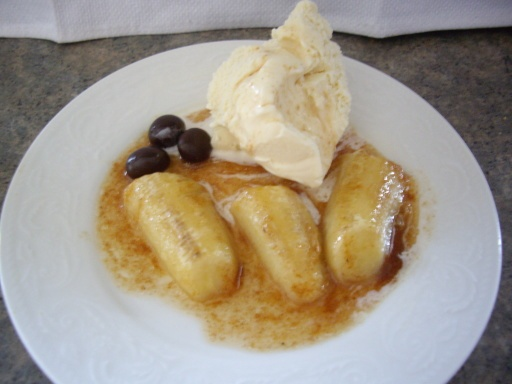background: (96, 0, 283, 184), (144, 91, 325, 182)
